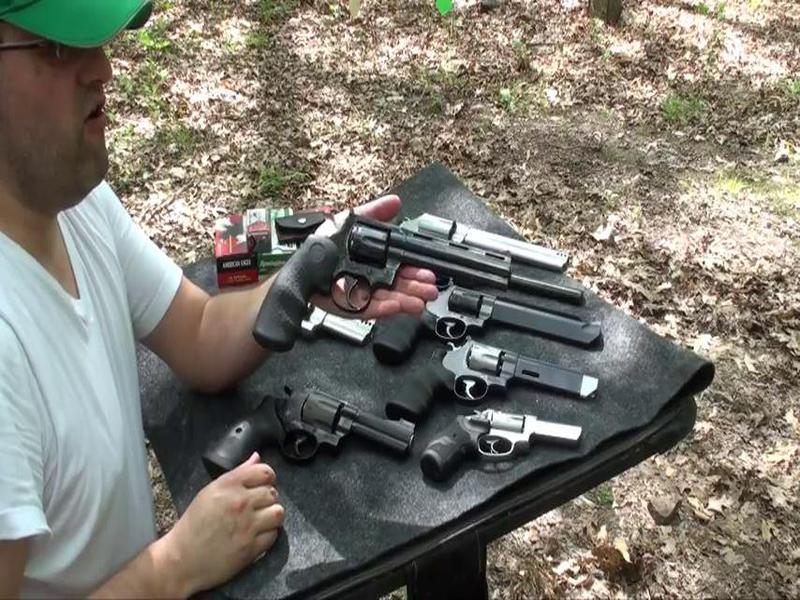Revolver: (273, 202, 514, 329), (434, 406, 587, 481)
